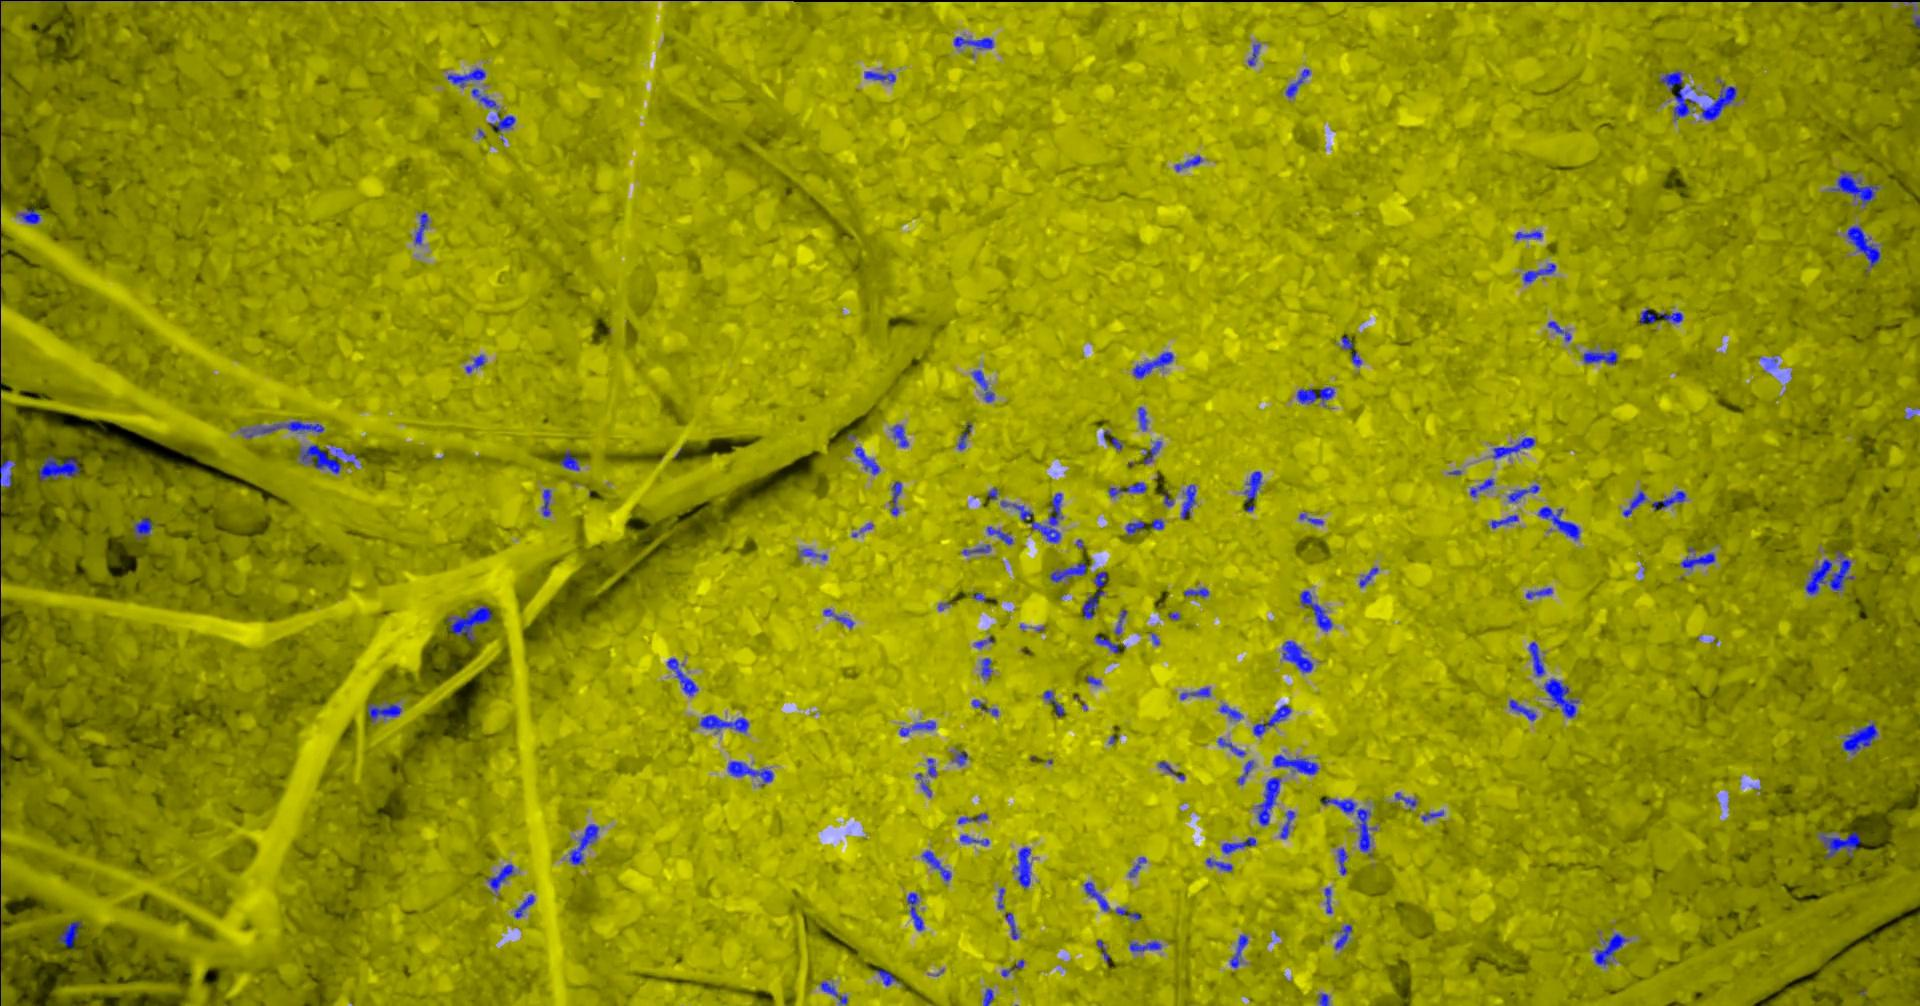ant: (1002, 492, 1064, 542), (1323, 796, 1374, 855), (1807, 549, 1855, 594), (1661, 70, 1697, 119), (447, 605, 493, 641), (300, 445, 358, 473), (1832, 170, 1879, 205), (1848, 225, 1882, 267), (1539, 506, 1581, 540), (1302, 589, 1335, 631), (243, 420, 325, 437), (1545, 678, 1580, 716), (1703, 84, 1738, 119), (1258, 776, 1283, 826), (1255, 704, 1291, 735), (668, 657, 698, 695), (729, 760, 775, 785), (1134, 351, 1175, 379), (1084, 572, 1109, 619), (1844, 721, 1879, 753), (41, 455, 83, 481), (571, 824, 599, 864), (1821, 831, 1862, 857), (1595, 934, 1630, 964), (1284, 640, 1314, 672), (923, 850, 952, 882), (1495, 437, 1537, 459), (1274, 754, 1321, 774), (701, 714, 750, 730), (488, 864, 516, 892), (1084, 882, 1111, 911), (1, 445, 17, 495), (1051, 561, 1088, 582), (855, 446, 881, 474), (450, 67, 488, 86), (1298, 386, 1336, 405), (1641, 307, 1684, 324), (1683, 546, 1716, 568), (1246, 471, 1263, 511), (974, 370, 996, 401), (822, 981, 850, 1005), (1655, 490, 1688, 511), (58, 921, 83, 948), (1288, 69, 1310, 97), (1524, 263, 1557, 282), (370, 702, 403, 721), (908, 892, 924, 930), (1230, 934, 1250, 967), (1624, 490, 1648, 516), (1017, 847, 1032, 887), (1511, 699, 1538, 720), (955, 36, 996, 50), (1223, 837, 1257, 854), (1509, 484, 1542, 500), (1045, 690, 1065, 716), (902, 720, 937, 735), (1110, 481, 1148, 495), (1219, 737, 1247, 756), (1530, 641, 1545, 676), (490, 111, 516, 131), (1583, 351, 1619, 365), (1549, 320, 1573, 340), (1161, 761, 1186, 780), (1183, 484, 1197, 518), (988, 526, 1015, 544), (516, 894, 536, 917), (472, 88, 497, 107), (1470, 478, 1495, 497), (1096, 635, 1121, 653), (417, 212, 430, 244), (1176, 155, 1203, 171), (1281, 810, 1297, 838), (1360, 567, 1380, 587), (135, 517, 154, 539), (1145, 441, 1163, 464), (19, 207, 43, 224), (1238, 760, 1255, 784), (1336, 923, 1352, 948), (1492, 514, 1520, 528), (561, 450, 580, 470), (893, 424, 910, 446), (891, 481, 903, 514), (959, 422, 973, 448), (1208, 857, 1234, 871), (1131, 940, 1163, 951), (1003, 959, 1025, 976), (866, 71, 897, 83), (1181, 687, 1211, 699), (1222, 704, 1244, 719), (917, 774, 932, 796), (467, 354, 486, 372), (1007, 912, 1020, 939), (1130, 856, 1147, 876), (963, 544, 992, 555), (801, 547, 829, 559), (1396, 793, 1418, 807), (959, 813, 989, 823), (877, 969, 898, 984), (1117, 907, 1142, 920), (1098, 939, 1111, 963), (1528, 587, 1554, 598), (961, 835, 990, 845), (1116, 608, 1128, 634), (1302, 513, 1324, 525), (1185, 587, 1210, 597), (982, 657, 994, 677), (1338, 848, 1349, 874), (1516, 230, 1544, 239), (543, 488, 552, 516), (1128, 520, 1145, 533), (1250, 43, 1261, 65), (836, 615, 855, 627), (954, 749, 969, 765), (1423, 810, 1445, 821), (1140, 406, 1149, 431), (1326, 887, 1333, 913), (984, 988, 996, 1005), (928, 758, 938, 776), (1343, 337, 1355, 349), (1153, 518, 1164, 528), (1321, 993, 1330, 1005)
